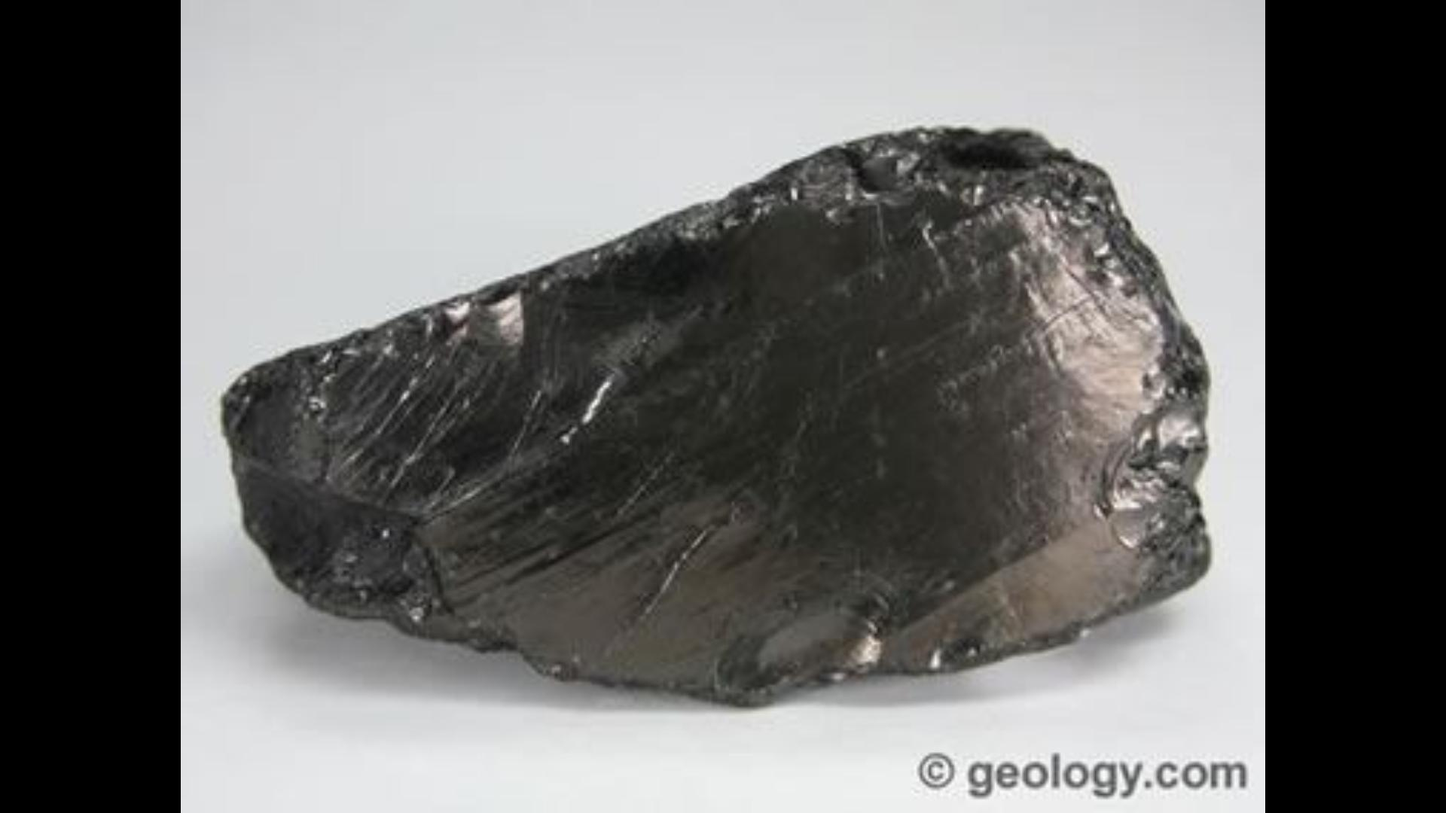rock: (224, 128, 1208, 702)
